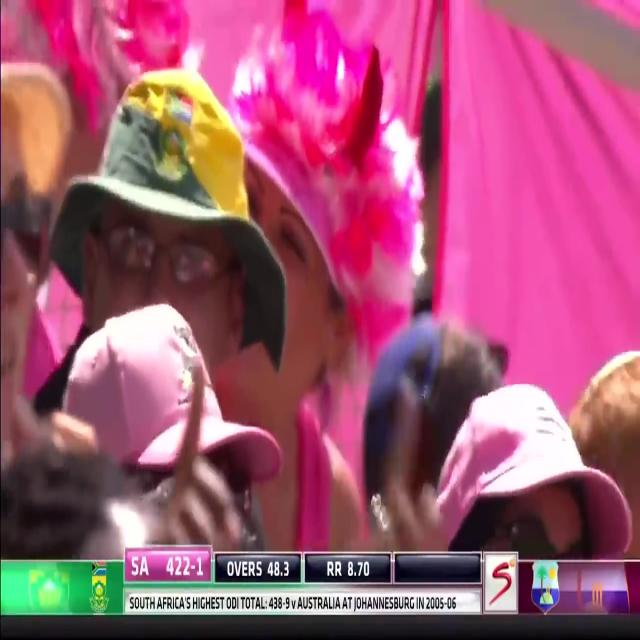Ball: (0, 0, 564, 552), (416, 0, 640, 558)
